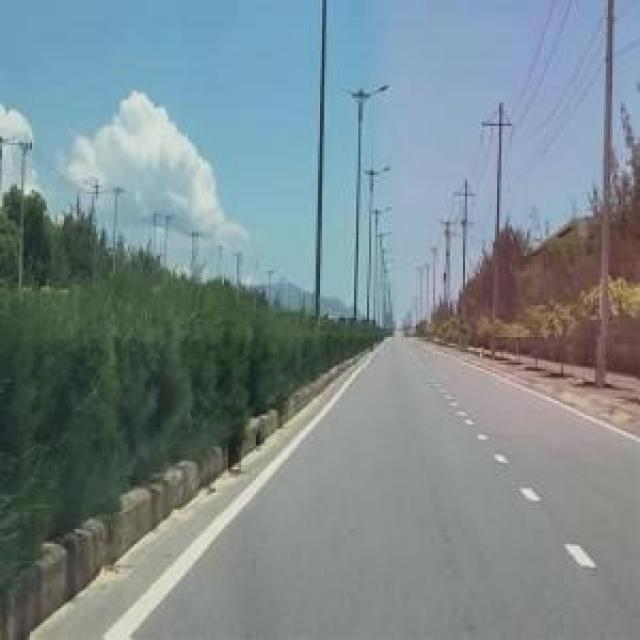clear-road: (31, 339, 638, 638)
